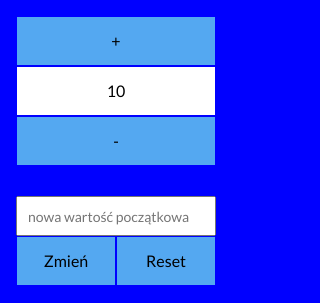
Test: Counter E2E tests › should change result to initial state after clicking Reset button
The image size is (320, 303).
Expected: the text with test id "result" reads "10", top-left (16, 66), bottom-right (216, 116)
Click the button with test id "additionButton".
click(116, 41)  # box top-left (16, 16), bottom-right (216, 66)
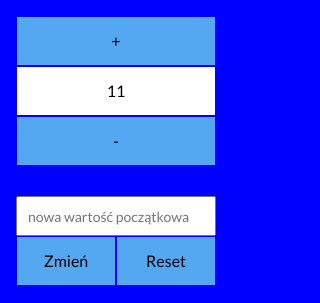
Now the text with test id "result" reads "11", box top-left (16, 66), bottom-right (216, 116)
Click the button with test id "resetButton".
click(166, 261)  # box top-left (116, 236), bottom-right (216, 286)
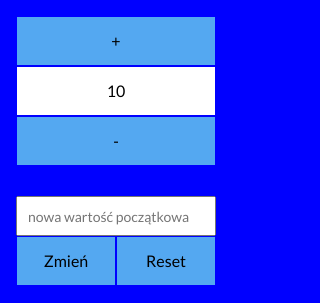
Now the text with test id "result" reads "10", box top-left (16, 66), bottom-right (216, 116)
